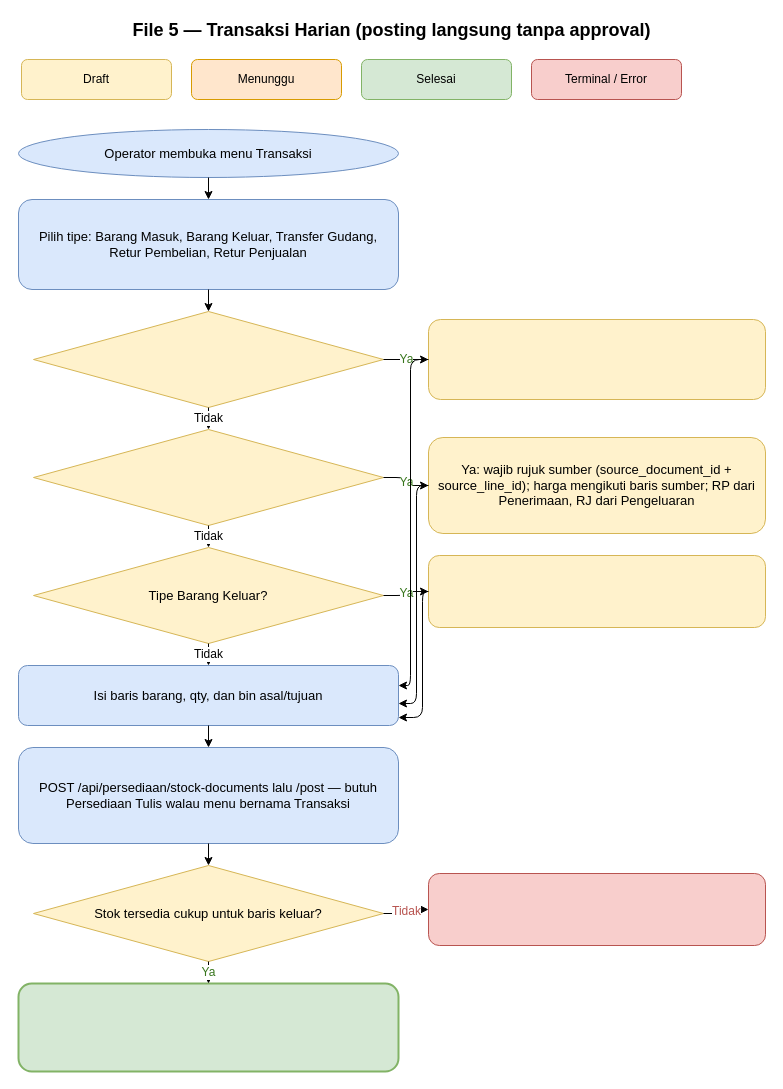
The diagram is 783 pixels wide and 1089 high, and some of its shapes have lost their labels. Each missing label, with the centre of its shape:
"SELESAI — ledger bergeser; Transfer menulis pasangan OUT+IN (pair_id)" goes at (x=208, y=1027).
"Tidak: 422 stok tidak cukup; dokumen tetap Draft" goes at (x=597, y=909).
"Tipe Retur?" goes at (x=208, y=477).
"Tipe Transfer Gudang?" goes at (x=208, y=359).
"Ya: wajib gudang tujuan (destination_warehouse_id)" goes at (x=597, y=359).
"Ya: wajib tujuan (customer / departemen / work order / proyek)" goes at (x=597, y=591).
